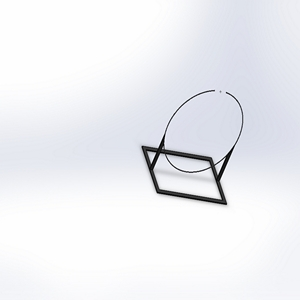circle: (140, 87, 244, 206)
